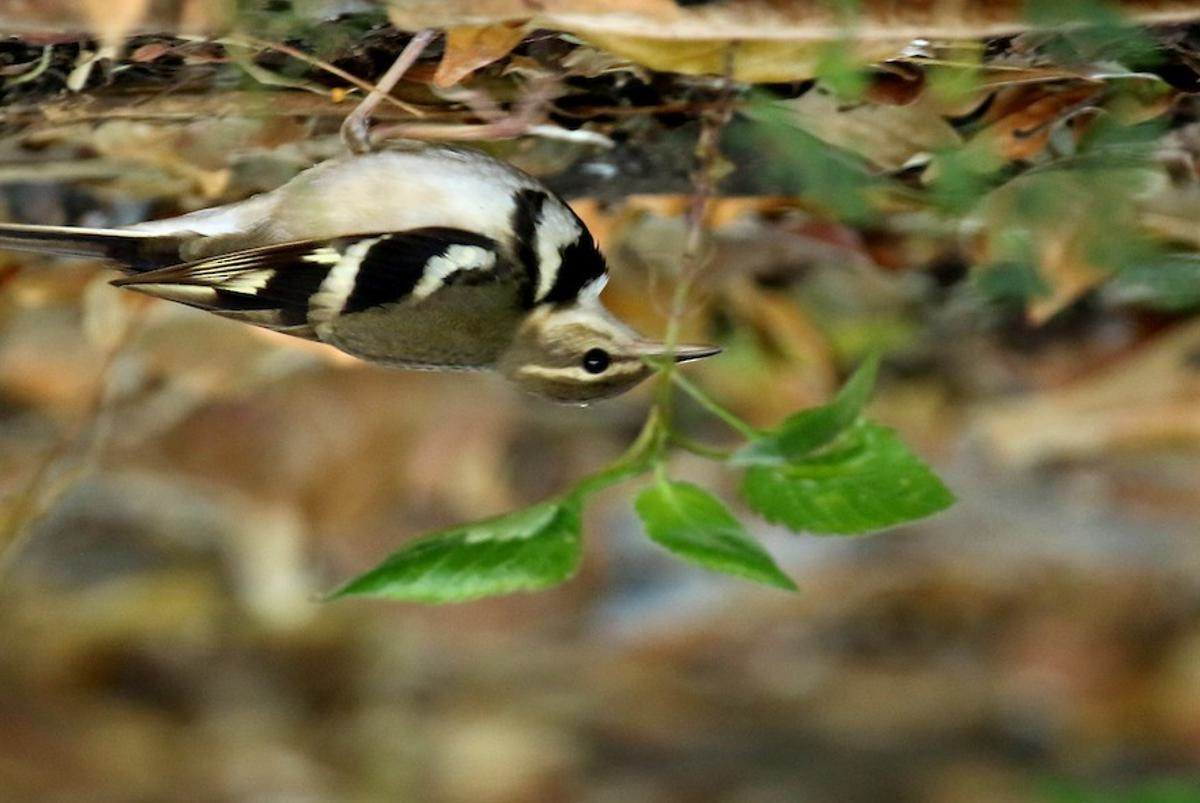wagtail: (103, 121, 710, 414)
